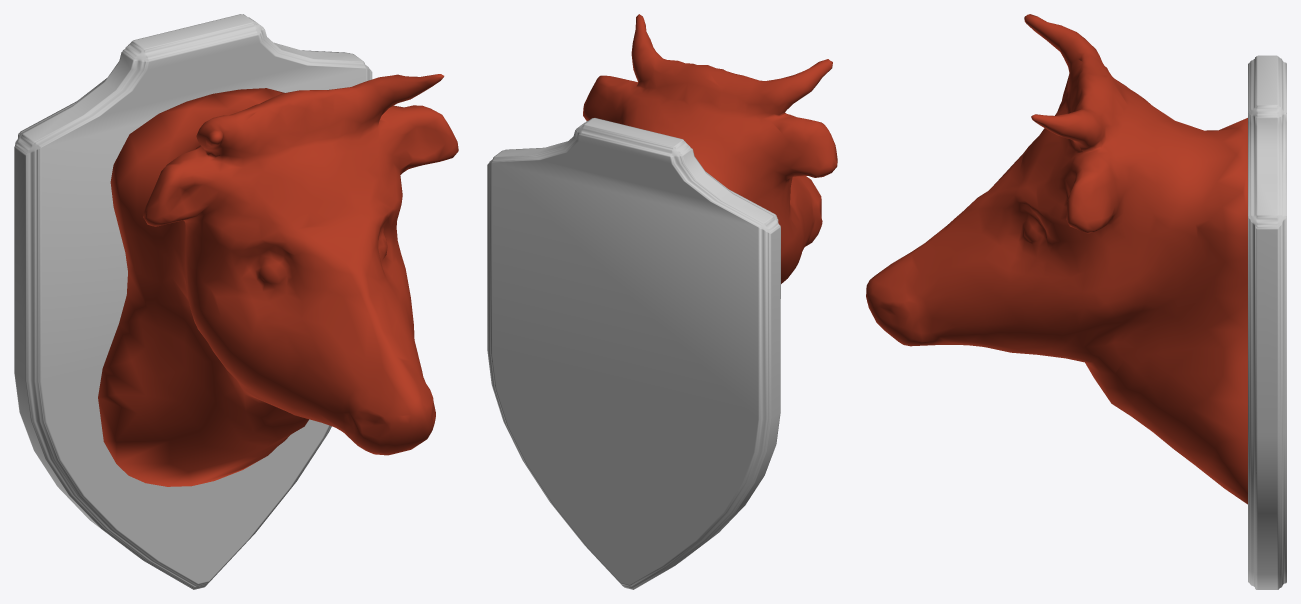
The model's file is cow_head.obj.
The picture shows the model from 3 angles, left to right: view 1: azimuth 30°, elevation 25°; view 2: azimuth 150°, elevation 25°; view 3: azimuth 270°, elevation 25°; orthographic projection. The views are drawn at different scales.
Parts seen in each view (by area): view 1: cowhead_Sphere, cowhead_mount_Plane.001; view 2: cowhead_mount_Plane.001, cowhead_Sphere; view 3: cowhead_Sphere, cowhead_mount_Plane.001.
Part boxes in pixels (x1=…): cowhead_Sphere: x1=98, y1=74, x2=458, y2=486; cowhead_mount_Plane.001: x1=14, y1=14, x2=372, y2=589; cowhead_mount_Plane.001: x1=487, y1=118, x2=780, y2=589; cowhead_Sphere: x1=583, y1=14, x2=837, y2=283; cowhead_Sphere: x1=866, y1=14, x2=1247, y2=504; cowhead_mount_Plane.001: x1=1248, y1=55, x2=1286, y2=589.
Bounding box in the file's own units: 0.376 × 0.5963 × 0.4319.
